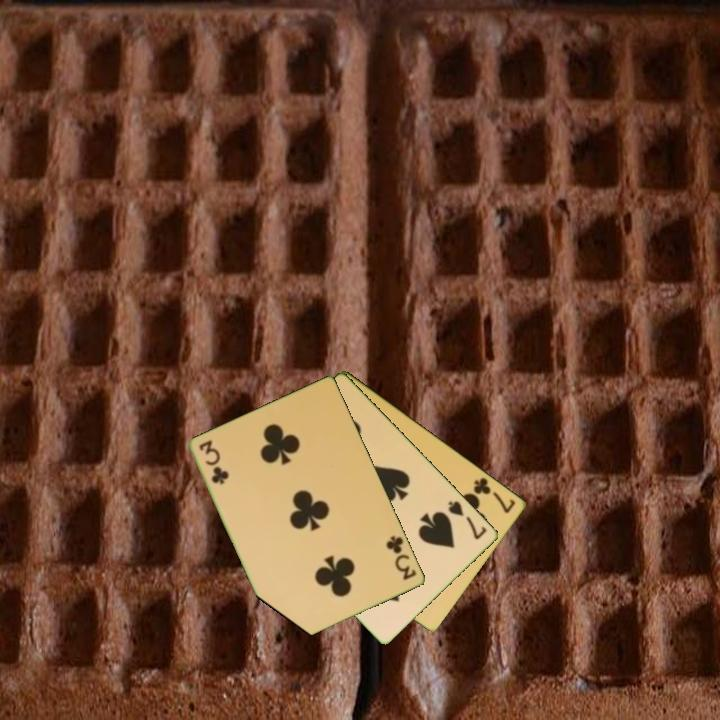3c: (383, 532, 420, 583), (196, 437, 231, 488)
7c: (470, 474, 519, 516)
7s: (445, 497, 490, 543)
